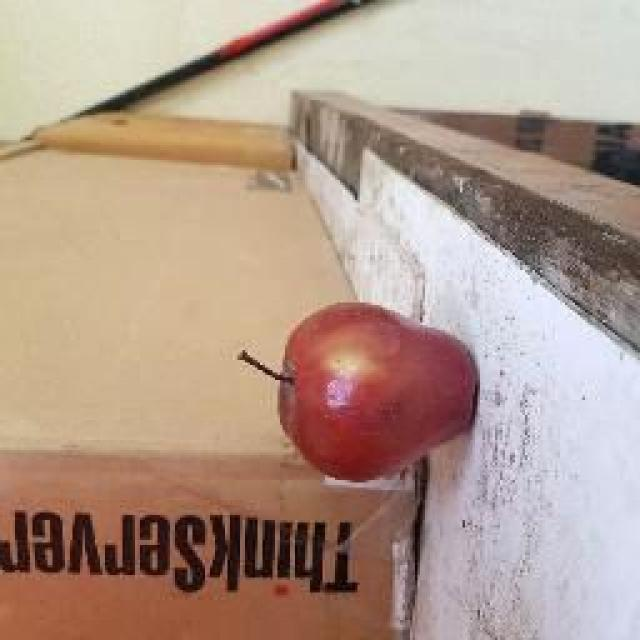Good_Apple: (275, 302, 480, 488)
